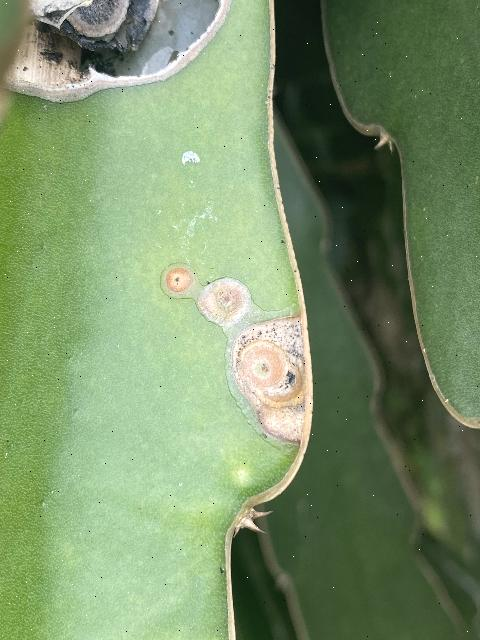stemcanker: (5, 1, 252, 114), (195, 275, 312, 451), (162, 264, 199, 299)
